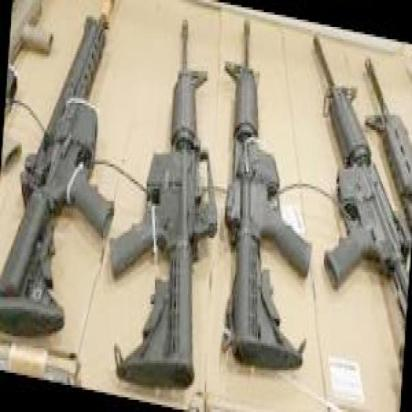Gun: (112, 10, 206, 382), (224, 12, 308, 368)
